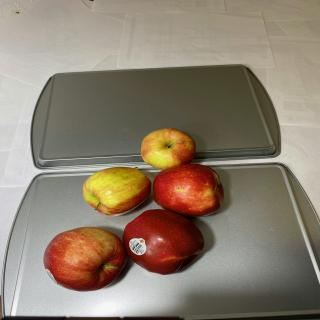Apple: (43, 226, 127, 292), (123, 209, 205, 275), (153, 163, 224, 217), (82, 166, 152, 216), (141, 128, 196, 170)
